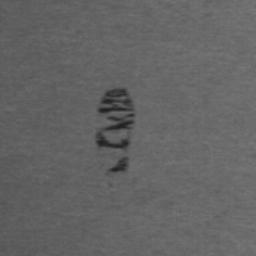Secondary rust skin: (95, 87, 136, 151), (108, 155, 130, 174)
